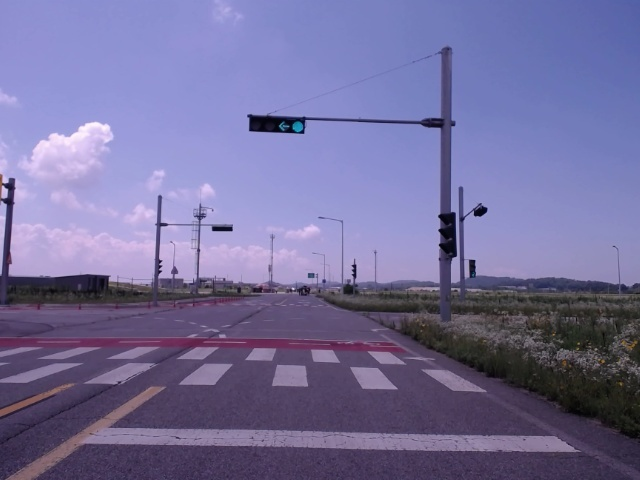all_green_4: (245, 113, 307, 134)
